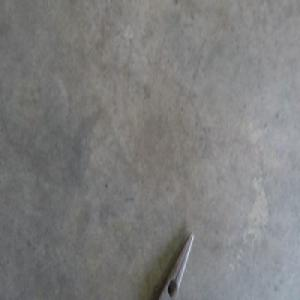Pliers: (153, 230, 193, 299)
